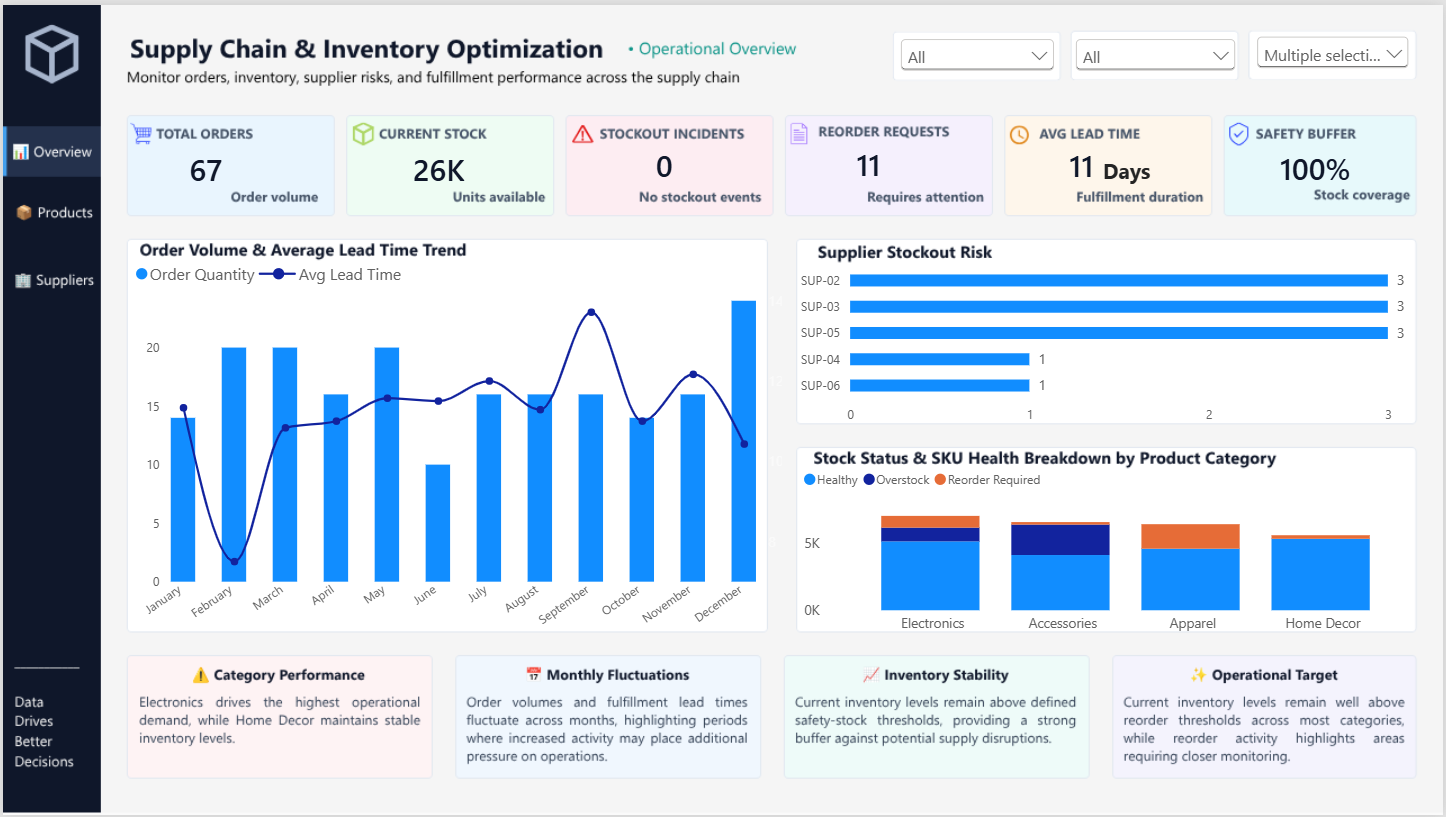

The dashboard page shown, as its layout file describes it:
{"tool":"powerbi","page":{"name":"Page 1","canvas":[1280,720],"ordinal":0},"visuals":[{"type":"cardVisual","fields":{"Data":["measure.Total_Orders"]},"box":[124.3,94.3,112.9,100],"z":0},{"type":"cardVisual","fields":{"Data":["measure.Current_Stock_Volume"]},"box":[332.9,94.3,108.6,100],"z":1000},{"type":"cardVisual","fields":{"Data":["measure.Reorder_Requests"]},"box":[708.6,90,121.4,101.4],"z":2000},{"type":"cardVisual","fields":{"Data":["measure.Avg_Lead_Time_Days"]},"box":[900.8,96.9,115.7,90],"z":3000},{"type":"cardVisual","fields":{"Data":["measure.Safety_Buffer_Compliance_%"]},"box":[1100,108.6,133.8,71.2],"z":4000},{"type":"cardVisual","fields":{"Data":["measure.Stockout_Incidents"]},"box":[524.3,90,127.1,104.3],"z":5000},{"type":"lineStackedColumnComboChart","fields":{"Category":["Messy_Supply_Chain_Inventory_Master.OrderDate.Variation.Date Hierarchy.Month"],"Y":["Sum(Messy_Supply_Chain_Inventory_Master.Quantity)"],"Y2":["measure.Avg_Lead_Time_Days"]},"box":[101.4,208.6,607.1,365.7],"z":6000},{"type":"clusteredBarChart","fields":{"Category":["Messy_Supply_Chain_Inventory_Master.SupplierID"],"Y":["measure.Reorder_Requests"]},"box":[690,207.5,575,183.8],"z":7000},{"type":"columnChart","fields":{"Category":["Messy_Supply_Chain_Inventory_Master.Category"],"Series":["Messy_Supply_Chain_Inventory_Master.InventoryStatus"],"Y":["measure.Current_Stock_Volume"]},"box":[695.6,393.3,584.4,185.6],"z":8000},{"type":"slicer","fields":{"Values":["LocalDateTable_ee1f28fe-2a9d-403a-abf0-207a9abe6614.Year"]},"box":[1110,22.9,144.3,48.6],"z":9000},{"type":"slicer","fields":{"Values":["LocalDateTable_ee1f28fe-2a9d-403a-abf0-207a9abe6614.Month"]},"box":[948.6,25.7,151.4,38.6],"z":10000},{"type":"slicer","fields":{"Values":["Messy_Supply_Chain_Inventory_Master.Category"]},"box":[792.9,25.7,145.7,41.4],"z":11000},{"type":"textbox","box":[977.7,134.6,49.2,30],"z":12000}]}

Visuals, with their boxes on the page's 1280x720 design canvas (x1, y1, x2, y2). These are canvas units, not pixel positions in the 1446x817 screenshot, which may show the page scaled, cropped or inside an application window:
cardVisual - measure.Total_Orders: box(124, 94, 237, 194)
cardVisual - measure.Current_Stock_Volume: box(333, 94, 442, 194)
cardVisual - measure.Reorder_Requests: box(709, 90, 830, 191)
cardVisual - measure.Avg_Lead_Time_Days: box(901, 97, 1016, 187)
cardVisual - measure.Safety_Buffer_Compliance_%: box(1100, 109, 1234, 180)
cardVisual - measure.Stockout_Incidents: box(524, 90, 651, 194)
lineStackedColumnComboChart - Messy_Supply_Chain_Inventory_Master.OrderDate.Variation.Date Hierarchy.Month x Sum(Messy_Supply_Chain_Inventory_Master.Quantity): box(101, 209, 708, 574)
clusteredBarChart - Messy_Supply_Chain_Inventory_Master.SupplierID x measure.Reorder_Requests: box(690, 208, 1265, 391)
columnChart - Messy_Supply_Chain_Inventory_Master.Category x Messy_Supply_Chain_Inventory_Master.InventoryStatus: box(696, 393, 1280, 579)
slicer - LocalDateTable_ee1f28fe-2a9d-403a-abf0-207a9abe6614.Year: box(1110, 23, 1254, 72)
slicer - LocalDateTable_ee1f28fe-2a9d-403a-abf0-207a9abe6614.Month: box(949, 26, 1100, 64)
slicer - Messy_Supply_Chain_Inventory_Master.Category: box(793, 26, 939, 67)
textbox: box(978, 135, 1027, 165)
